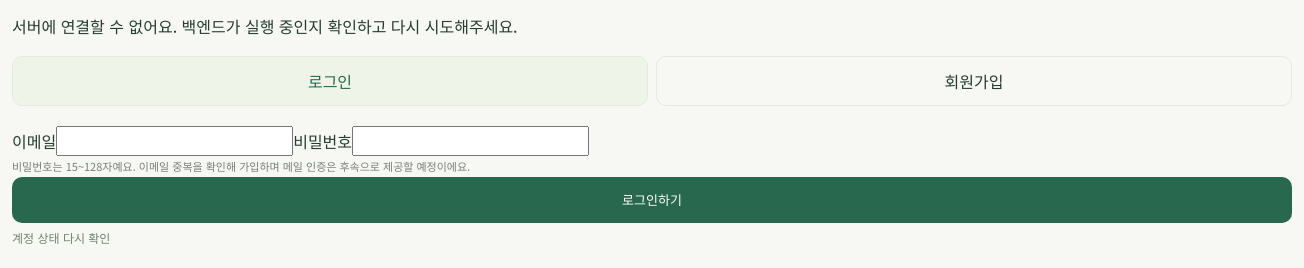
Scenario: 실제 계정 폼 › 연결 실패 후 계정 상태를 다시 확인한다
Expected: the text "서버에 연결할 수 없어요. 백엔드가 실행 중인지 확인하고 다시 시도해주세요." is shown, top-left (12, 14), bottom-right (518, 38)
Click the button "계정 상태 다시 확인": (61, 237) top-left (12, 223), bottom-right (110, 252)
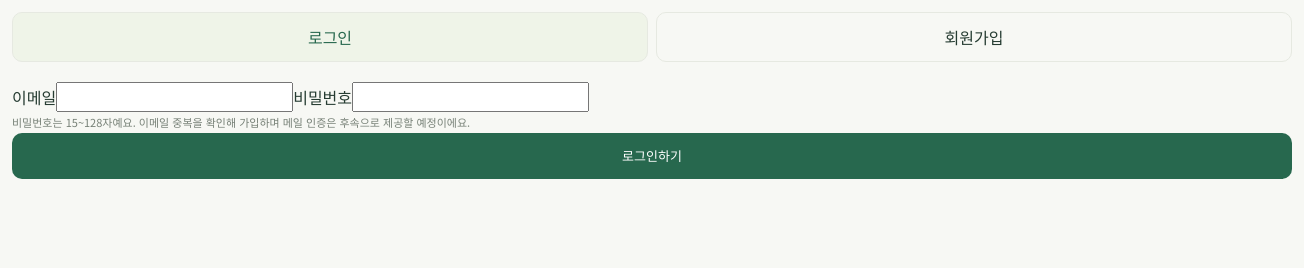
Result: the text "서버에 연결할 수 없어요" is gone
